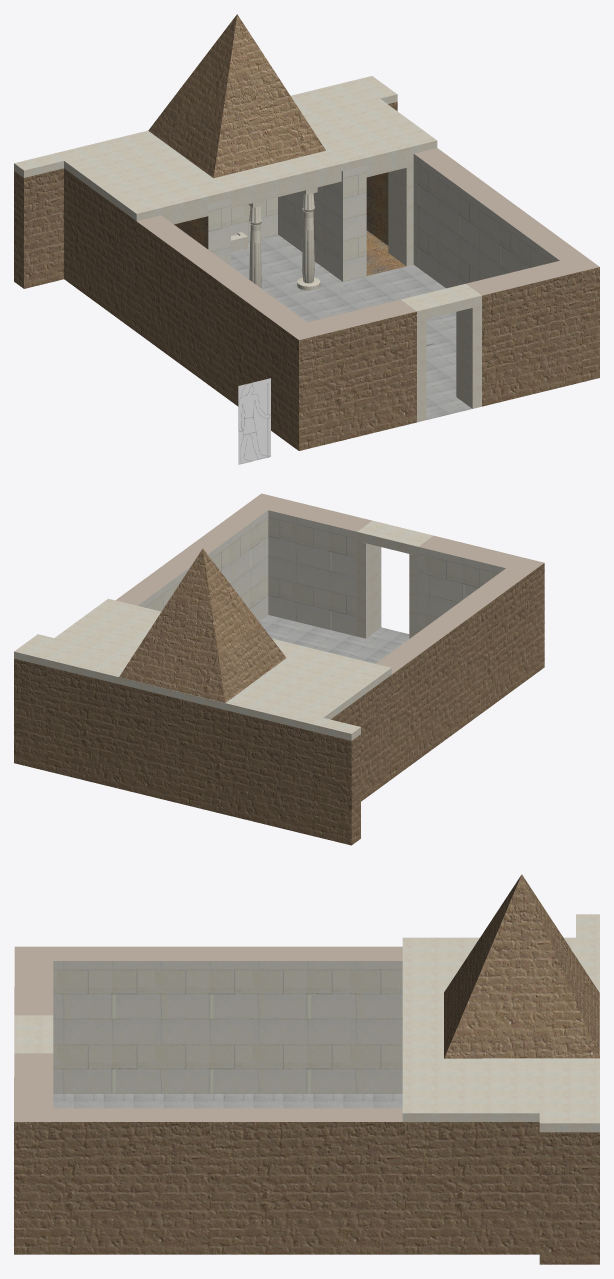
Rendered from Ipuia.glb.
3 renders of one model, top to bottom at view 1: azimuth 30°, elevation 25°; view 2: azimuth 150°, elevation 25°; view 3: azimuth 270°, elevation 25°, orthographic. The views are drawn at different scales.
Visible parts, largest first — view 1: Mesh6 Model, Mesh5 Component_3_1 Model, Mesh7 Model, Mesh3 Component_13_2 Model, Mesh1 Component_13_1 Model; view 2: Mesh6 Model, Mesh5 Component_3_1 Model; view 3: Mesh6 Model, Mesh5 Component_3_1 Model.
Boxes of the visible parts, box(x1,y1,x2,y2) form: Mesh6 Model: box(14, 76, 599, 450); Mesh5 Component_3_1 Model: box(148, 14, 325, 178); Mesh7 Model: box(238, 378, 270, 464); Mesh3 Component_13_2 Model: box(301, 187, 317, 283); Mesh1 Component_13_1 Model: box(248, 200, 264, 287); Mesh6 Model: box(14, 493, 544, 845); Mesh5 Component_3_1 Model: box(119, 548, 286, 702); Mesh6 Model: box(14, 914, 599, 1264); Mesh5 Component_3_1 Model: box(444, 874, 599, 1058).
Size of the model in its own units: 8.02 by 4.97 by 9.01.
Materials: 8 (6 with a texture image).
